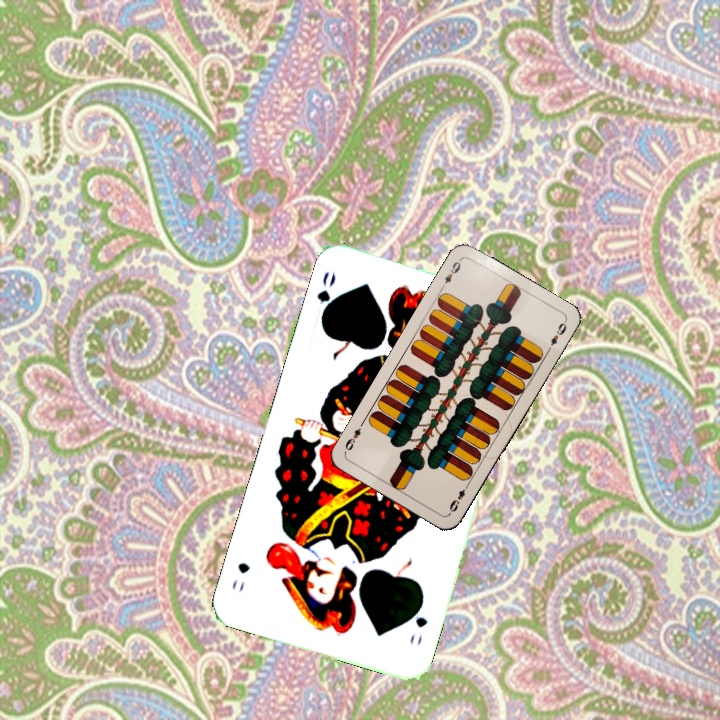E9: (445, 479, 471, 516), (437, 255, 463, 292)
GO: (312, 267, 341, 325), (405, 597, 431, 647)
